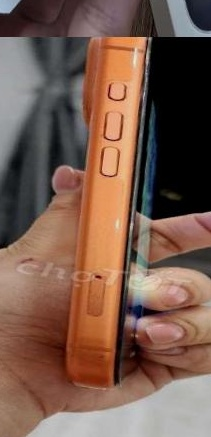physical_damage: (132, 37, 154, 42)
scratch: (102, 209, 135, 241)
